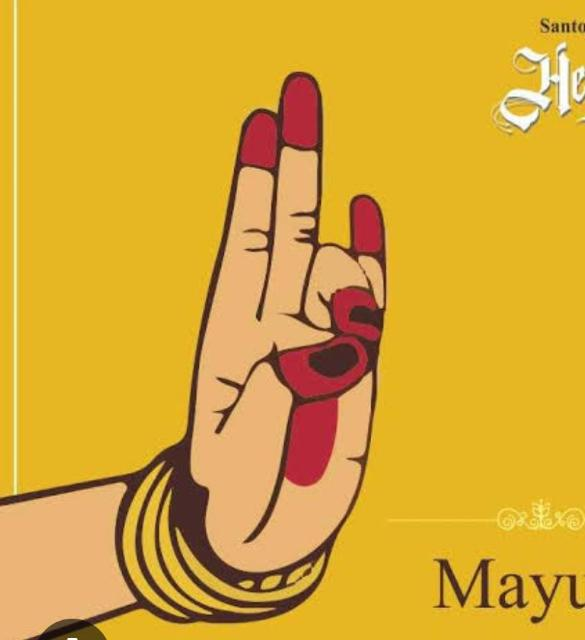mayur: (0, 72, 388, 640), (174, 50, 434, 626)
